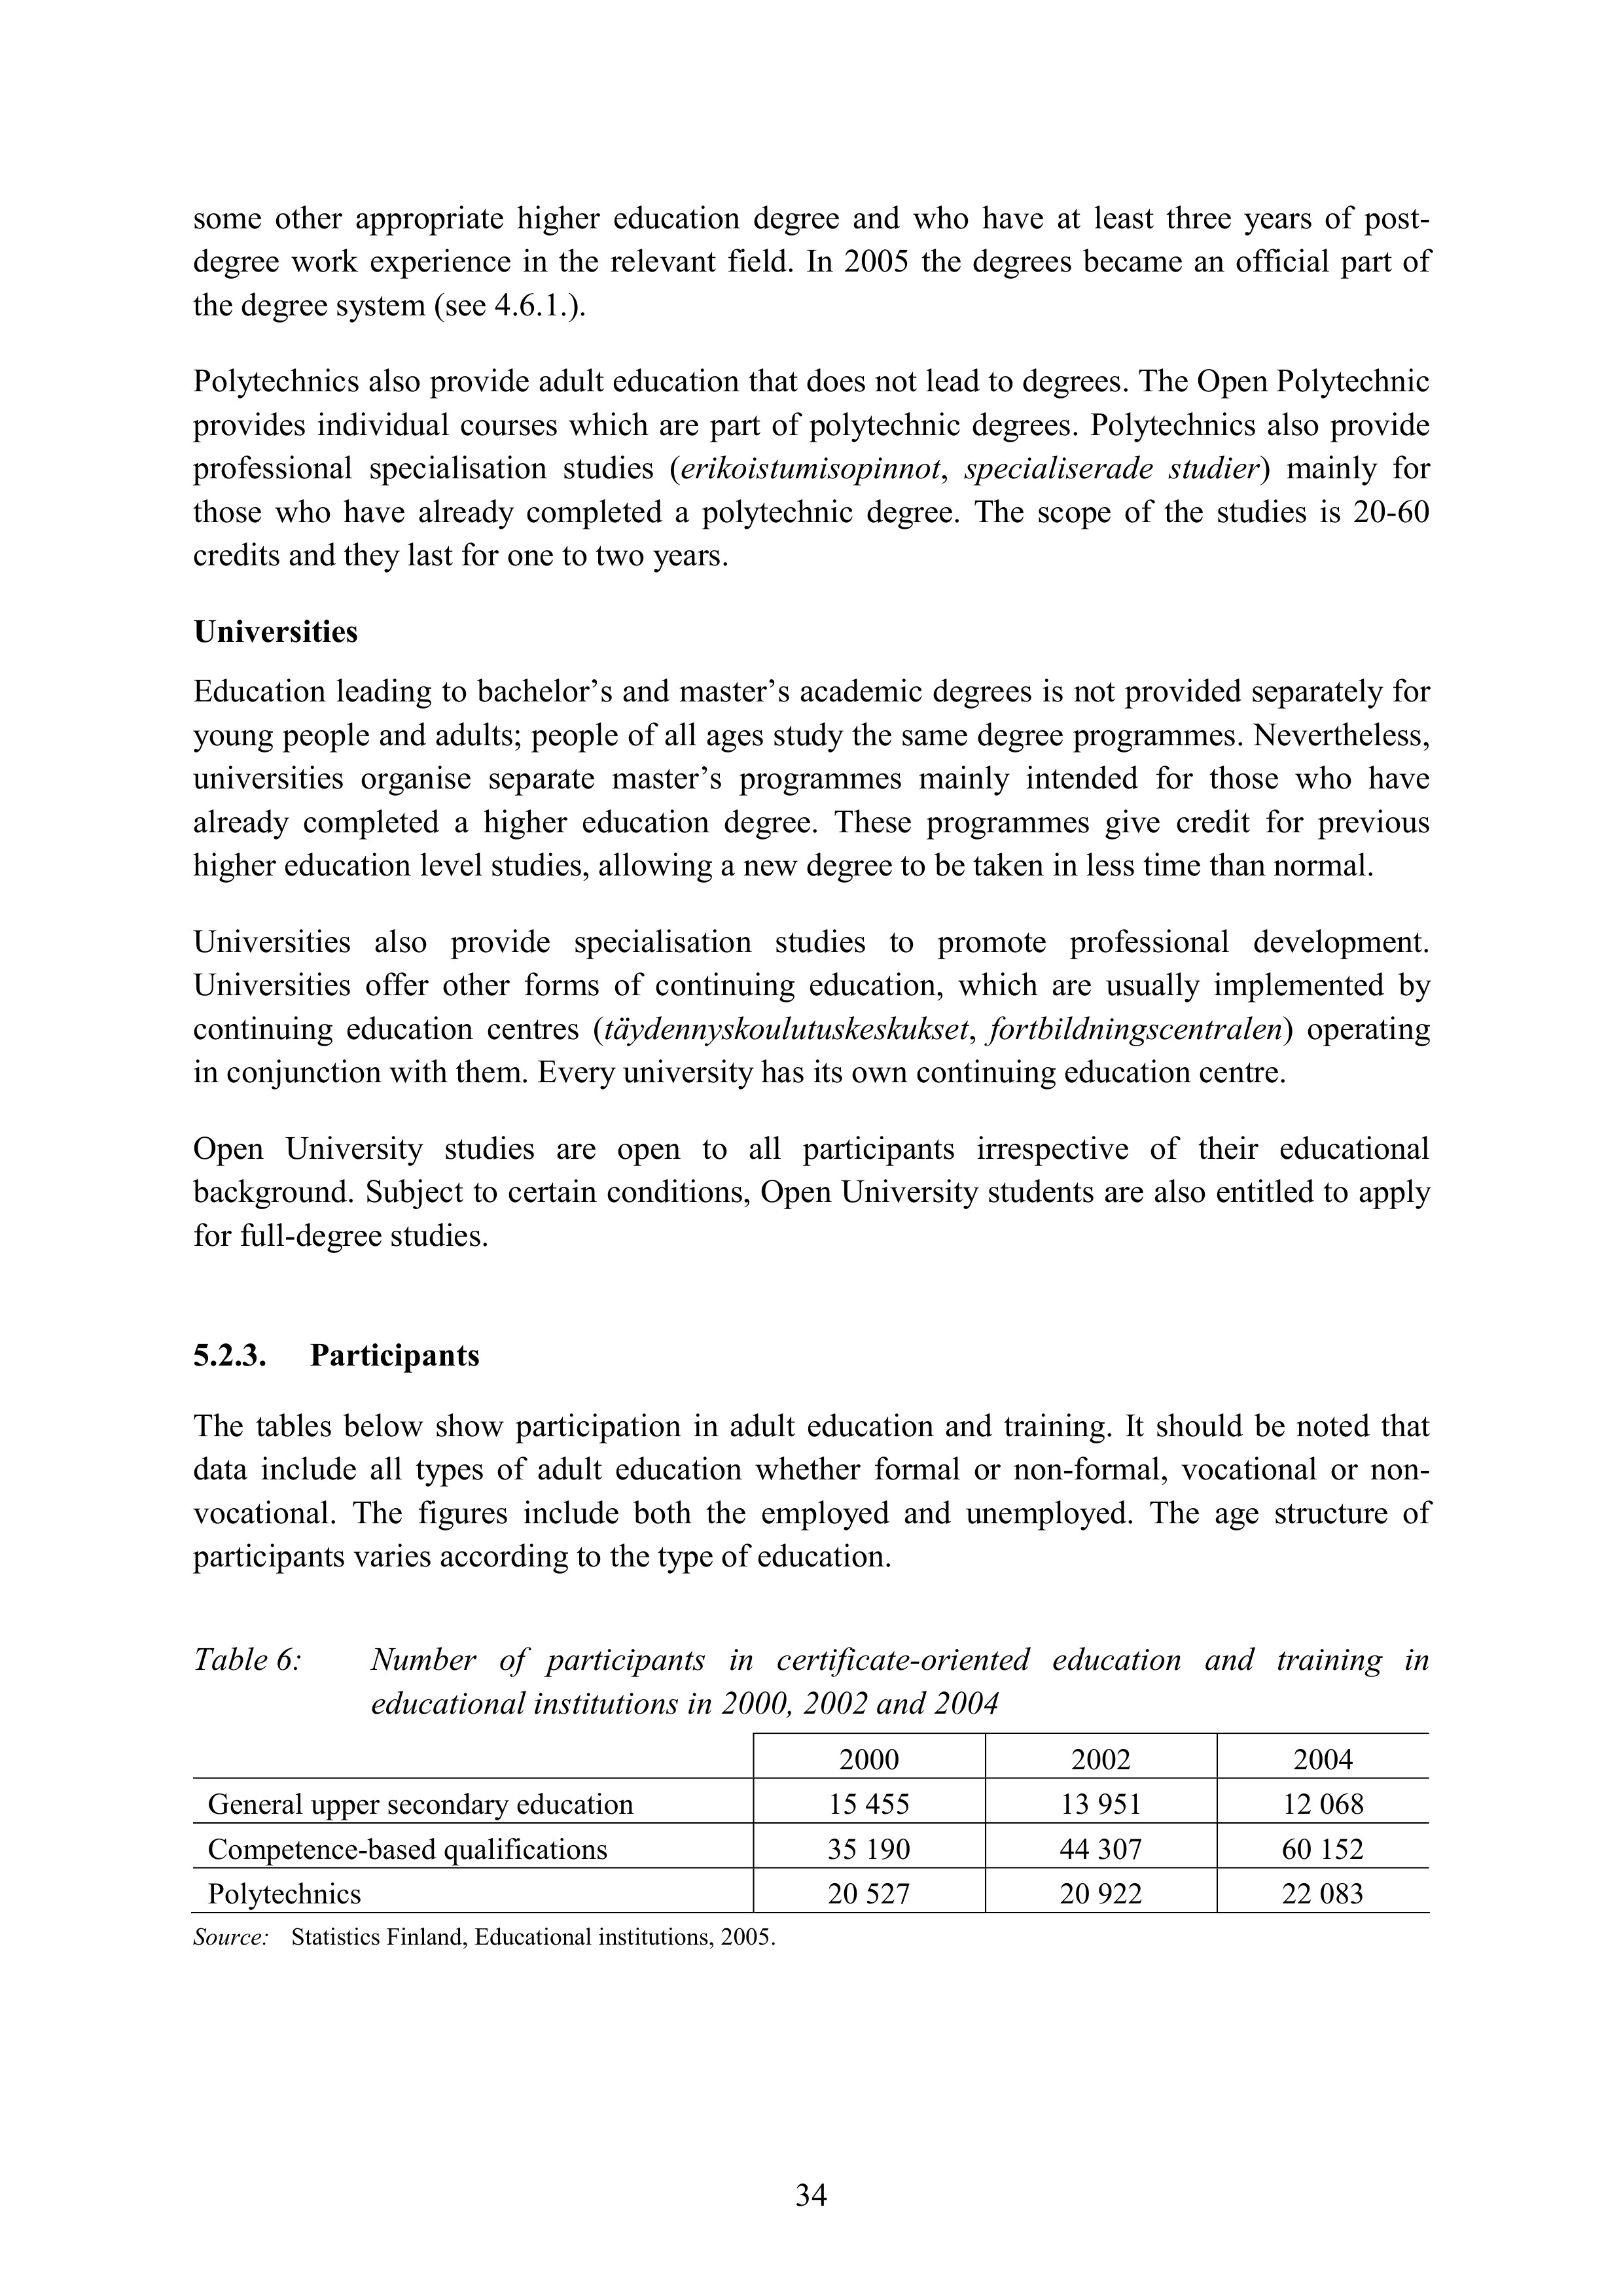table: (207, 1743, 1365, 1910)
